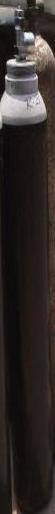cylinder: (1, 0, 55, 514)
